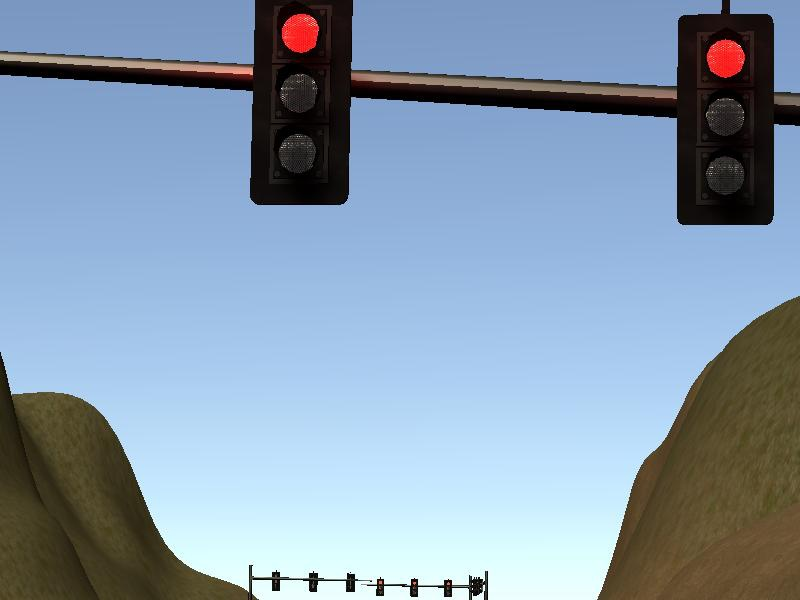Red: (667, 11, 780, 229), (245, 1, 356, 212), (442, 578, 455, 598), (409, 577, 420, 599), (375, 577, 385, 600)
